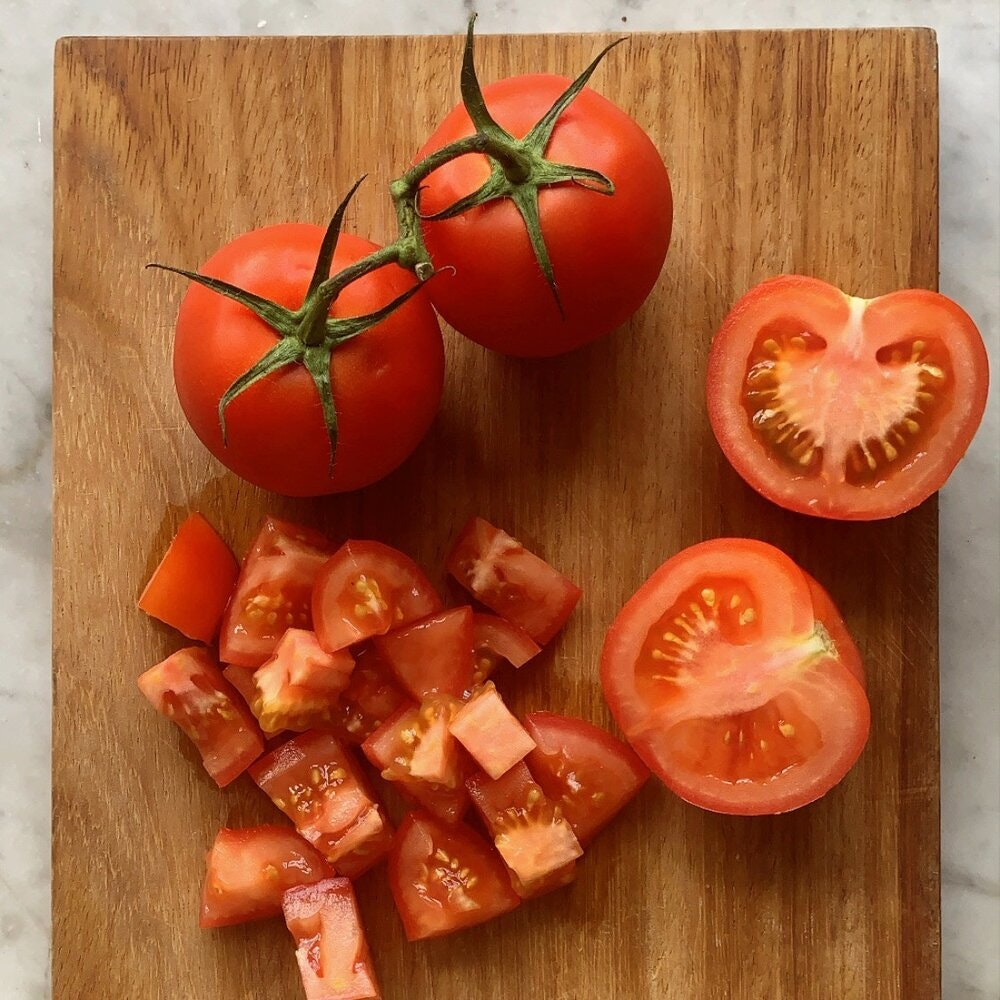tomato: (136, 75, 993, 983)
